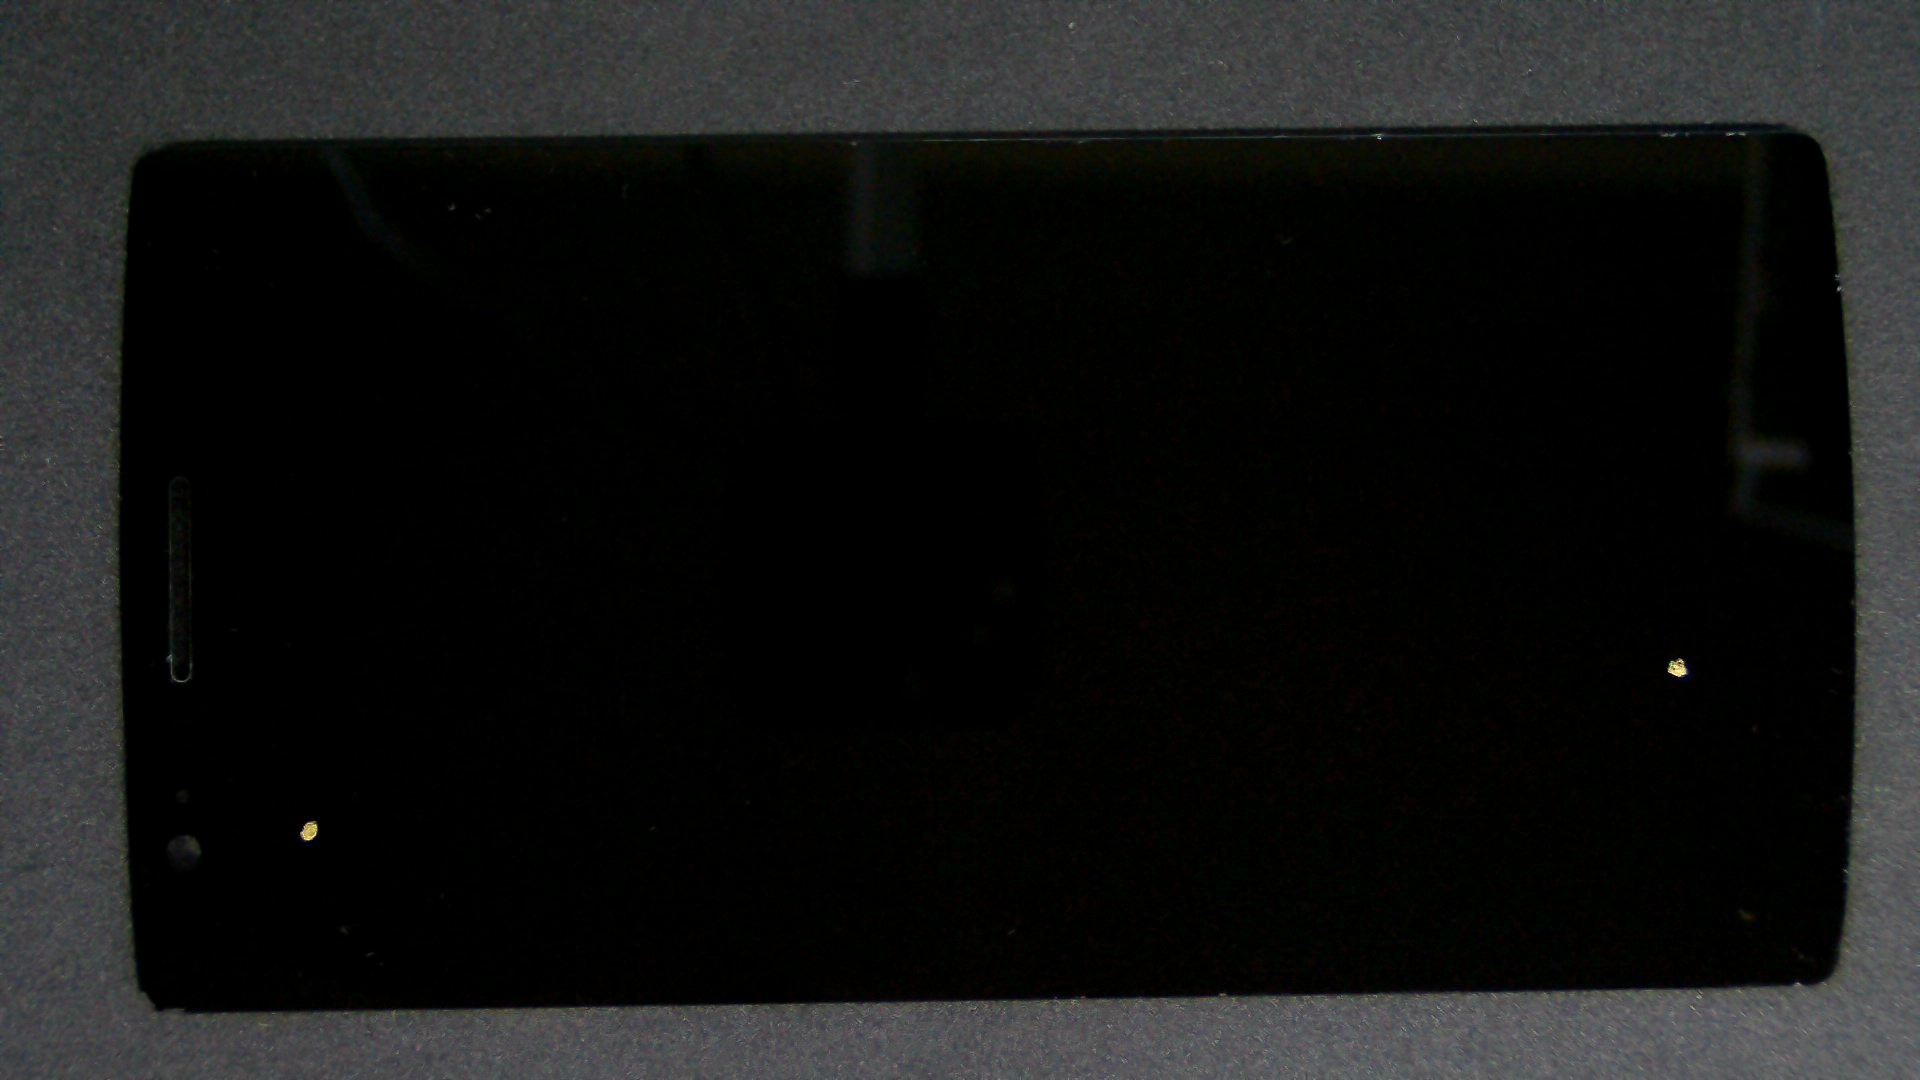oil: (840, 327, 1920, 985), (158, 409, 473, 1080)
